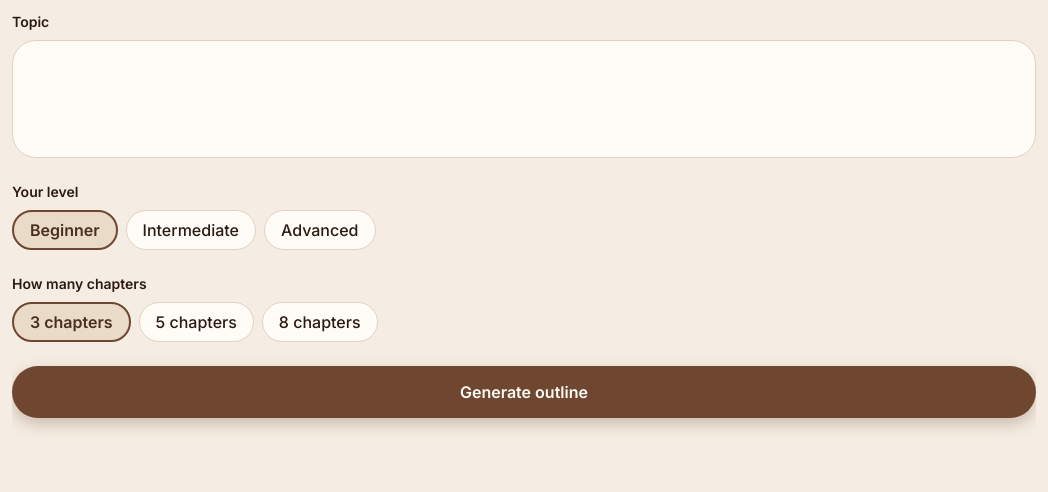
it: NewModuleForm › shows the refusal reason and returns to the form when the topic is refused
Type "Something risky" into the text box labelled "Topic" at [524, 99], box [12,40,1036,158]
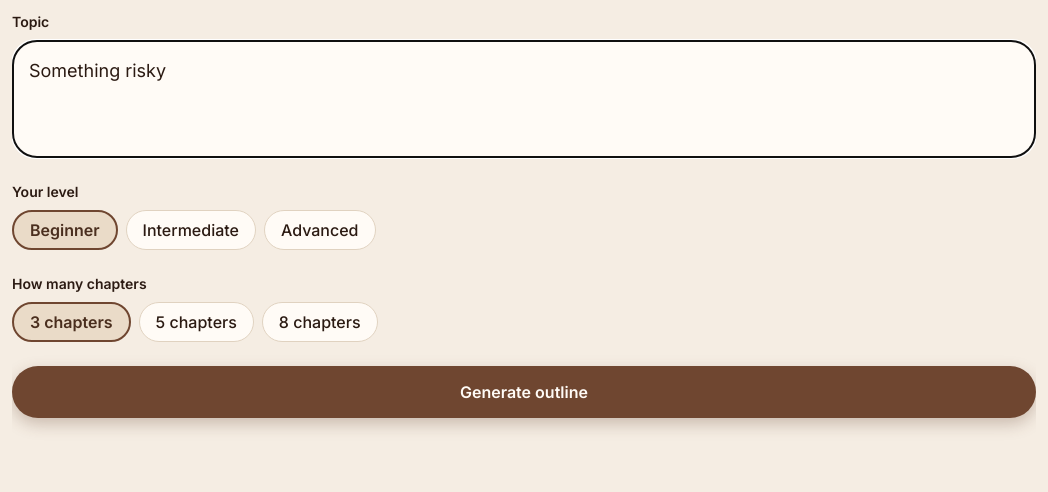
Click the button "Generate outline" at [524, 392], box [12,366,1036,418]
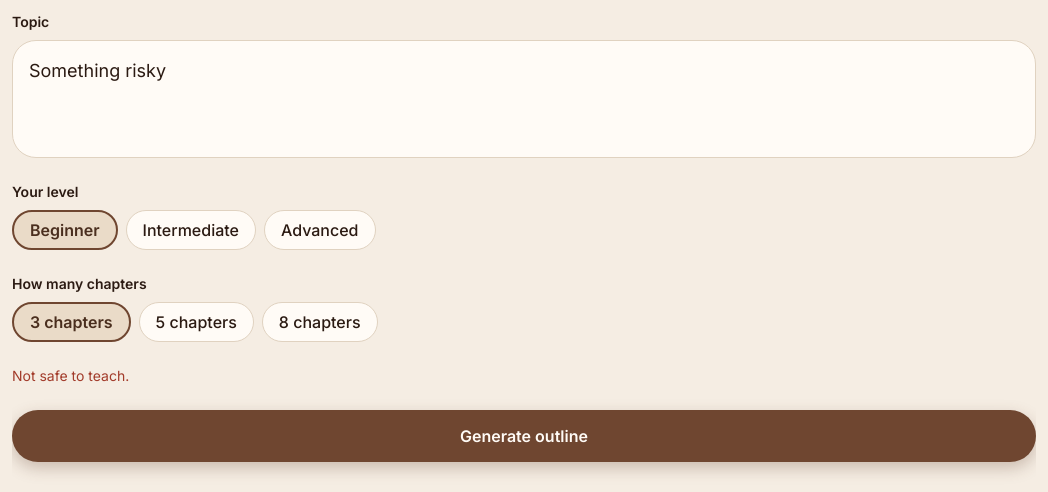
Expected: the text box labelled "Topic" is shown, [12,40,1036,158]
Now the message reads "Not safe to teach.", box [12,367,129,384]
